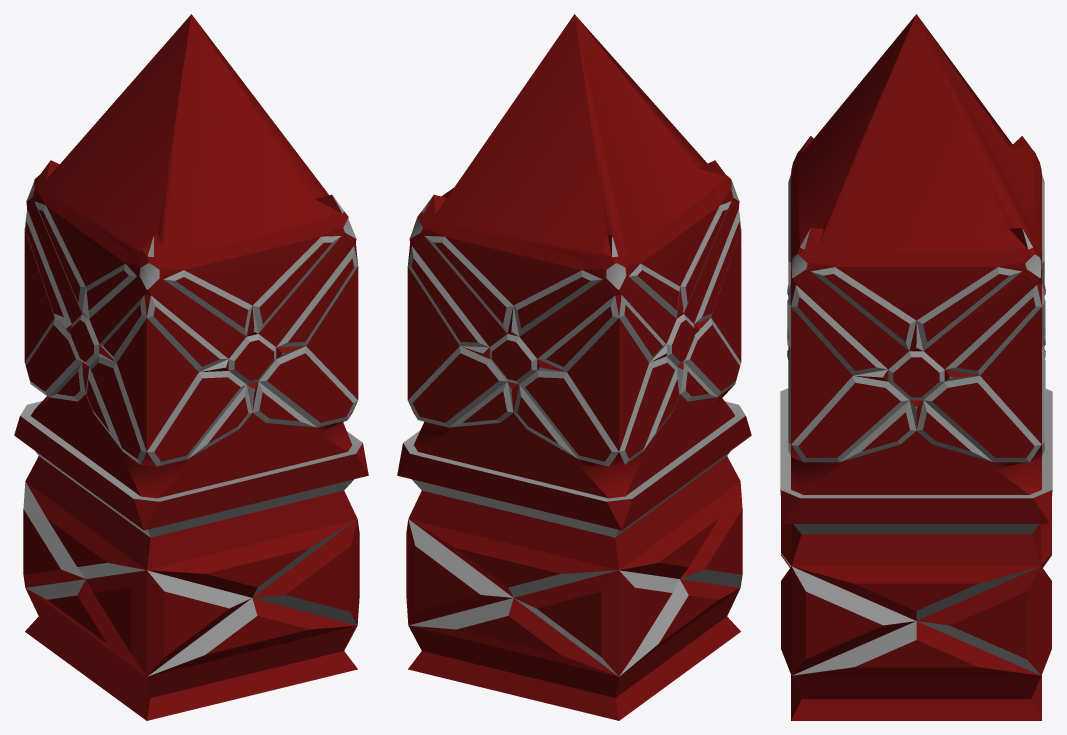
The model's file is Totem_Export.FBX.
3 renders of one model, left to right at view 1: azimuth 30°, elevation 25°; view 2: azimuth 150°, elevation 25°; view 3: azimuth 270°, elevation 25°, orthographic. The views are drawn at different scales.
Visible parts, largest first — view 1: Totem001; view 2: Totem001; view 3: Totem001.
Boxes of the visible parts, bbox=[...] form: Totem001: bbox=[14, 14, 368, 720]; Totem001: bbox=[397, 14, 751, 720]; Totem001: bbox=[780, 14, 1052, 720].
Bounding box in the file's own units: 21.71 × 57.54 × 21.71.
